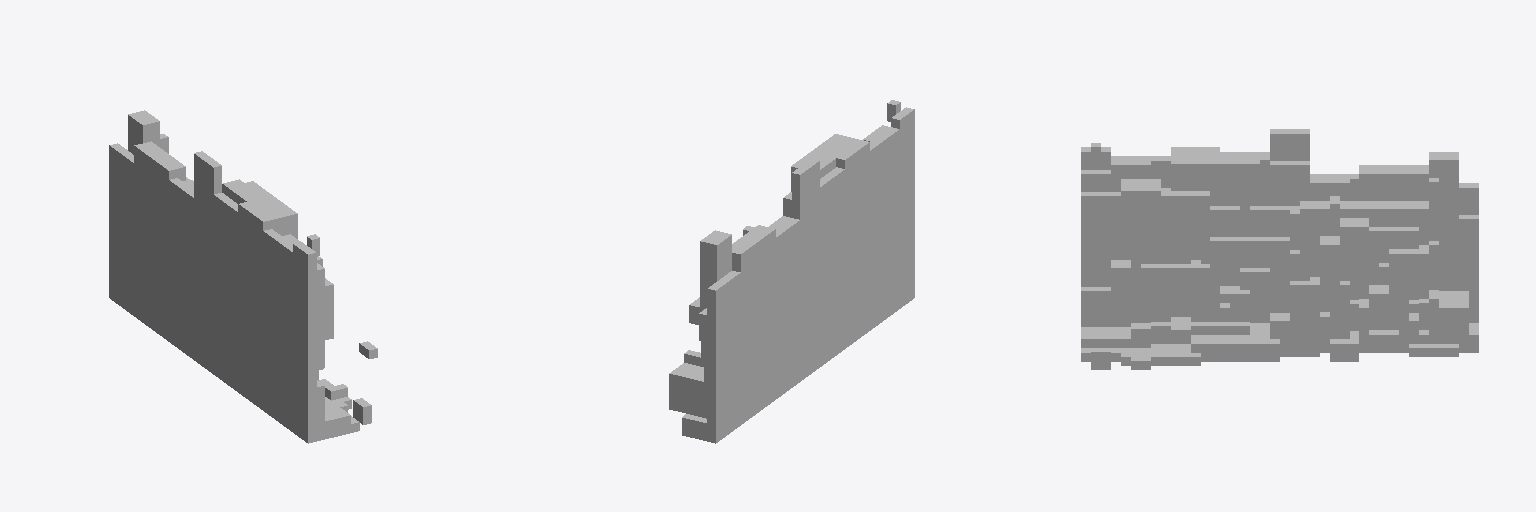
The model's file is wall1.obj.
The picture shows the model from 3 angles: view 1: azimuth 30°, elevation 25°; view 2: azimuth 150°, elevation 25°; view 3: azimuth 270°, elevation 25°; orthographic projection.
Parts seen in each view (by area): view 1: wall1; view 2: wall1; view 3: wall1.
Boxes of the visible parts, <box> form: wall1: <box>109,110,377,443</box>; wall1: <box>669,100,914,443</box>; wall1: <box>1081,129,1478,369</box>.
Bounding box in the file's own units: 11 × 23 × 40.